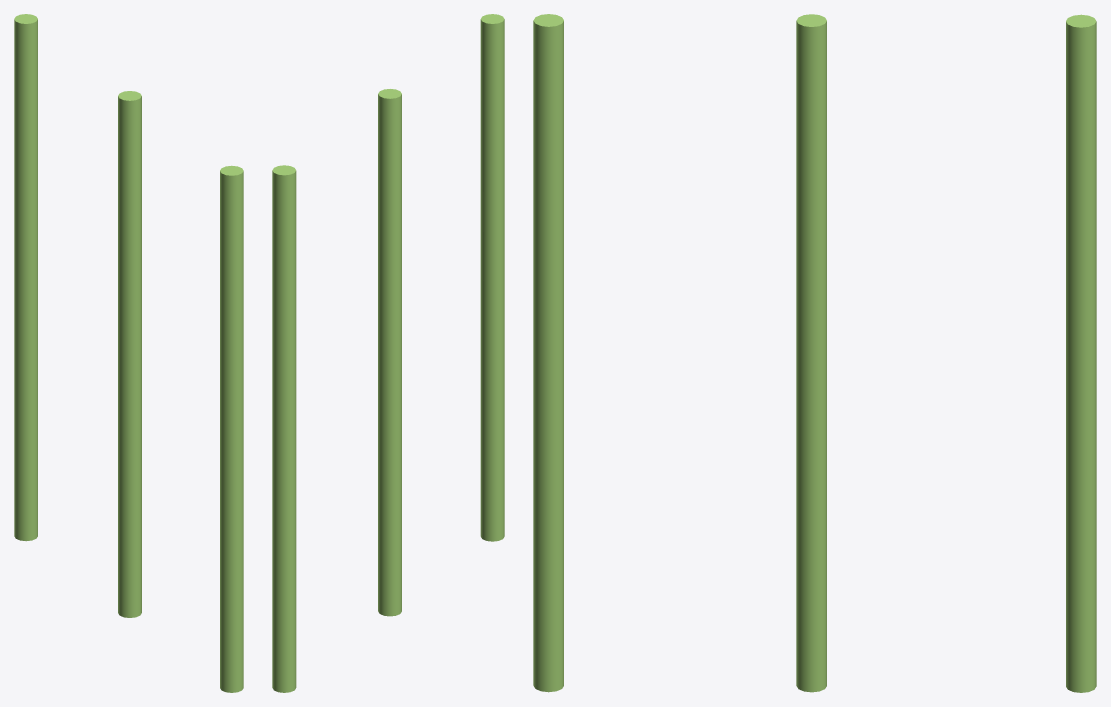
File: Wall_Arc_05C_Lod0.fbx
3 views of the same model, side by side, from view 1: azimuth 30°, elevation 25°; view 2: azimuth 150°, elevation 25°; view 3: azimuth 270°, elevation 25° (orthographic). The views are drawn at different scales.
Parts seen in each view (by area): view 1: Wall_Arc_05C_Lod0; view 2: Wall_Arc_05C_Lod0; view 3: Wall_Arc_05C_Lod0.
Part boxes in pixels (<box>): Wall_Arc_05C_Lod0: <box>14,14,243,692</box>; Wall_Arc_05C_Lod0: <box>272,14,504,692</box>; Wall_Arc_05C_Lod0: <box>533,14,1096,692</box>.
Bounding box in the file's own units: 24.95 × 564 × 433.
